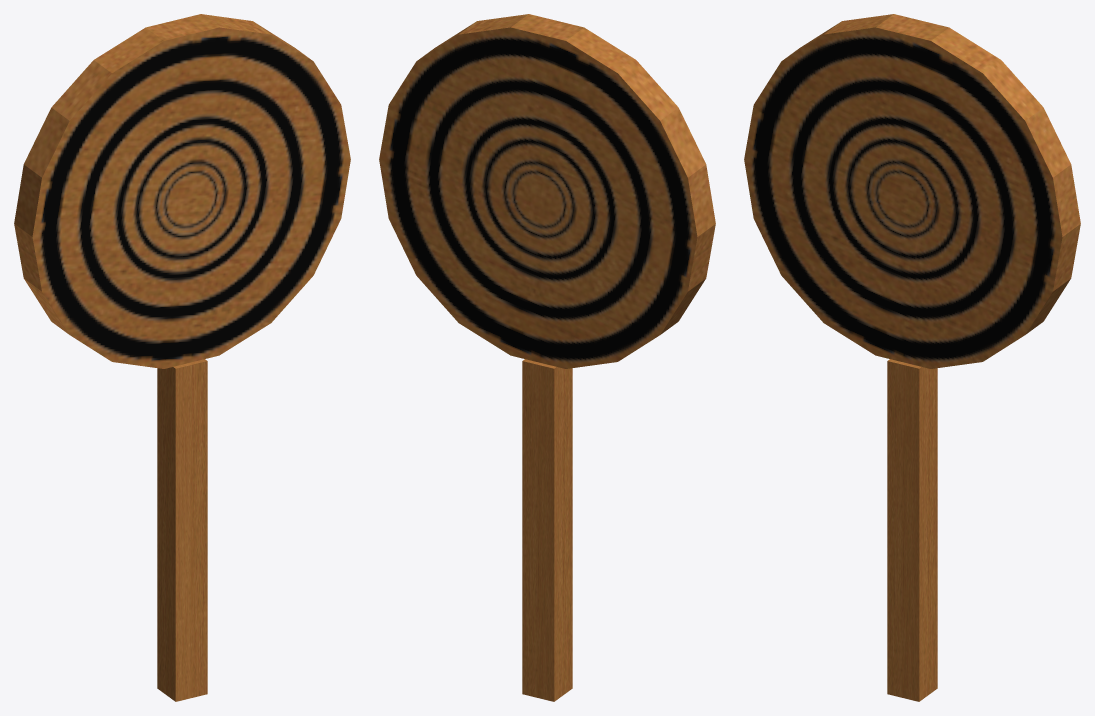
The model's file is Mark.FBX.
3 views of the same model, side by side, from view 1: azimuth 30°, elevation 25°; view 2: azimuth 150°, elevation 25°; view 3: azimuth 330°, elevation 25° (orthographic).
Parts seen in each view (by area): view 1: Cylinder001, Box001; view 2: Cylinder001, Box001; view 3: Cylinder001, Box001.
Part boxes in pixels (x1,y1,x2,y2): Cylinder001: (14, 14, 350, 368); Box001: (157, 359, 207, 701); Cylinder001: (379, 14, 715, 368); Box001: (522, 359, 572, 701); Cylinder001: (744, 14, 1080, 368); Box001: (887, 359, 937, 701).
Size of the model in its own units: 4 by 7.97 by 0.4.
Materials: 2 (2 with a texture image).
